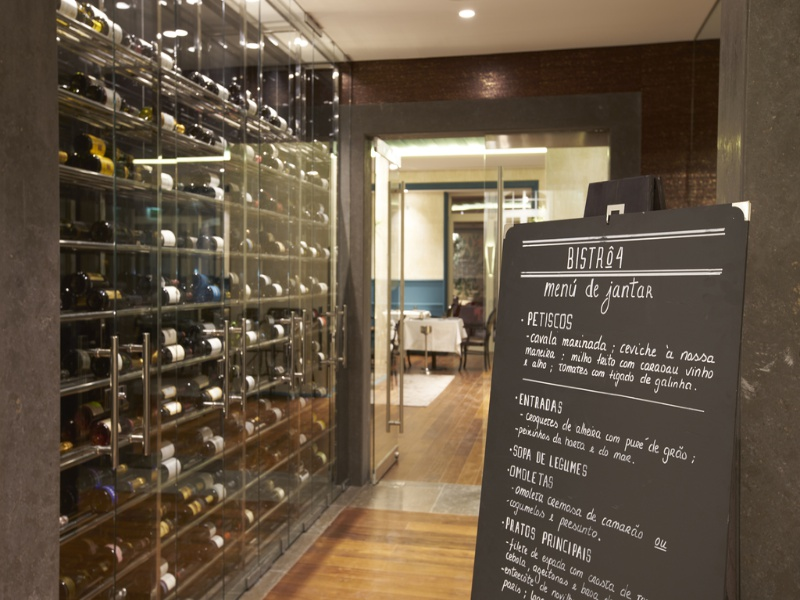wine: (56, 5, 353, 593)
